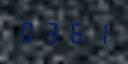one: (84, 20, 105, 44)
six: (62, 19, 83, 44)
three: (40, 19, 61, 43)
zero: (18, 19, 39, 43)
